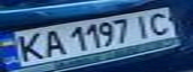1: (63, 24, 87, 51), (81, 20, 100, 48)
7: (109, 16, 136, 43)
9: (97, 19, 118, 46)
A: (39, 27, 66, 57)
C: (145, 9, 178, 36)
I: (127, 11, 157, 38)
K: (9, 29, 48, 62)
